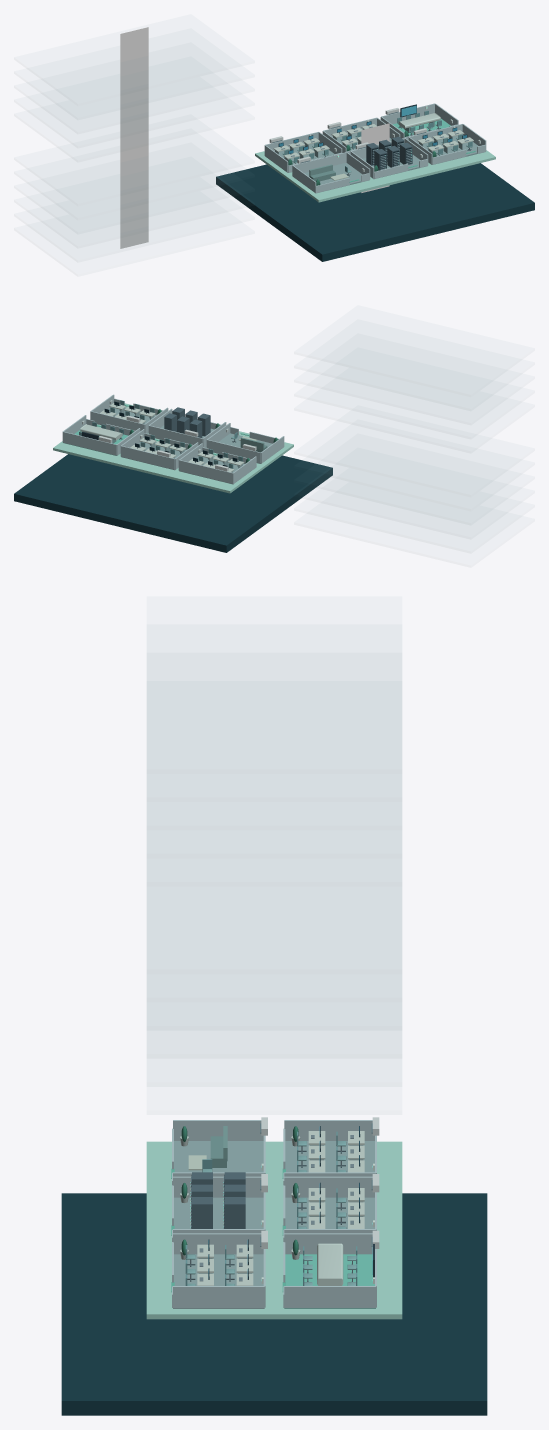
The model's file is haixu-digital-campus.glb.
3 renders of one model, top to bottom at view 1: azimuth 30°, elevation 25°; view 2: azimuth 150°, elevation 25°; view 3: azimuth 270°, elevation 25°, orthographic. The views are drawn at different scales.
Visible parts, largest first — view 1: object 1, b-a-f12, b-a-f12-r4, b-a-f12-r6, b-a-f12-r2, b-a-f7, b-a-f1, b-a-f12-r1, b-a-f10, b-a-f11, b-a-f4, b-a-f12-r3 (+7 smaller); view 2: object 1, b-a-f12, b-a-f12-r4, b-a-f12-r2, b-a-f12-r1, b-a-f12-r5, b-a-f12-r6, b-a-f12-r3; view 3: object 1, b-a-f12, b-a-f12-r2, b-a-f12-r6, b-a-f12-r4, b-a-f12-r5, b-a-f12-r1, b-a-f12-r3.
Part boxes in pixels (x1=…): object 1: x1=216, y1=163, x2=534, y2=261; b-a-f12: x1=255, y1=123, x2=495, y2=202; b-a-f12-r4: x1=292, y1=152, x2=370, y2=193; b-a-f12-r6: x1=408, y1=124, x2=486, y2=164; b-a-f12-r2: x1=380, y1=103, x2=458, y2=139; b-a-f7: x1=120, y1=83, x2=148, y2=134; b-a-f1: x1=120, y1=198, x2=148, y2=248; b-a-f12-r1: x1=264, y1=132, x2=342, y2=172; b-a-f10: x1=120, y1=41, x2=148, y2=92; b-a-f11: x1=120, y1=27, x2=148, y2=78; b-a-f4: x1=120, y1=155, x2=148, y2=206; b-a-f12-r3: x1=350, y1=138, x2=428, y2=179; object 1: x1=14, y1=454, x2=332, y2=552; b-a-f12: x1=53, y1=403, x2=293, y2=493; b-a-f12-r4: x1=206, y1=423, x2=284, y2=463; b-a-f12-r2: x1=62, y1=415, x2=140, y2=455; b-a-f12-r1: x1=178, y1=443, x2=256, y2=484; b-a-f12-r5: x1=120, y1=429, x2=198, y2=470; b-a-f12-r6: x1=90, y1=394, x2=168, y2=433; b-a-f12-r3: x1=148, y1=408, x2=226, y2=447; object 1: x1=61, y1=1193, x2=487, y2=1415; b-a-f12: x1=146, y1=1141, x2=402, y2=1319; b-a-f12-r2: x1=282, y1=1233, x2=376, y2=1308; b-a-f12-r6: x1=171, y1=1233, x2=265, y2=1308; b-a-f12-r4: x1=171, y1=1120, x2=265, y2=1185; b-a-f12-r5: x1=282, y1=1176, x2=376, y2=1241; b-a-f12-r1: x1=282, y1=1120, x2=376, y2=1185; b-a-f12-r3: x1=171, y1=1176, x2=265, y2=1241.
Bounding box in the file's own units: 30.75 × 15.95 × 13.
